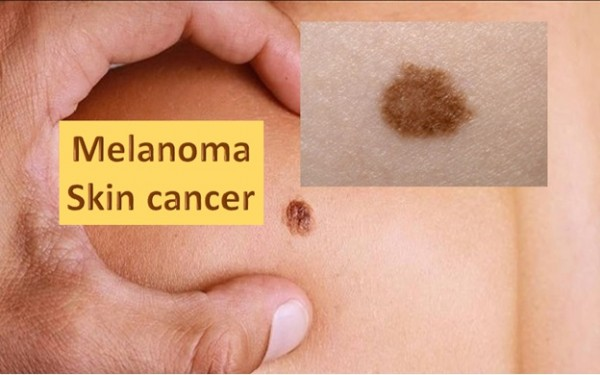melanoma: (278, 172, 356, 268)
